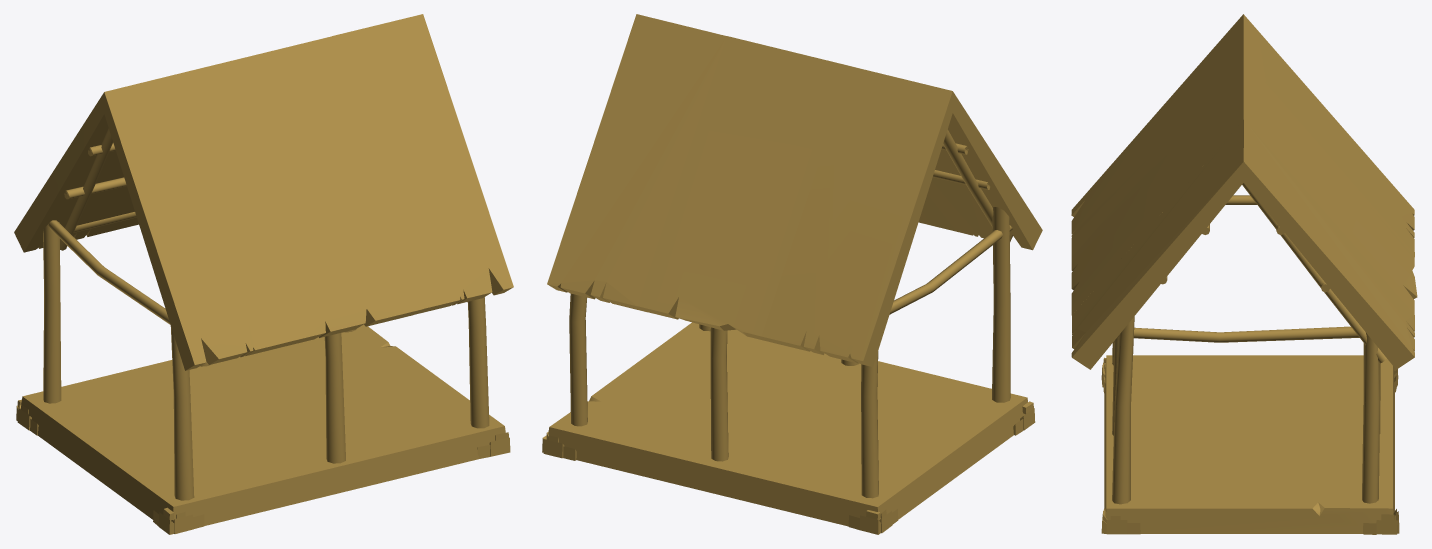
File: SM_restaurant_A01.fbx
The picture shows the model from 3 angles, left to right: view 1: azimuth 30°, elevation 25°; view 2: azimuth 150°, elevation 25°; view 3: azimuth 270°, elevation 25°; orthographic projection. The views are drawn at different scales.
Parts seen in each view (by area): view 1: SM_middle_roof_A003; view 2: SM_middle_roof_A003; view 3: SM_middle_roof_A003.
Part boxes in pixels (<box>): SM_middle_roof_A003: <box>14,14,513,534</box>; SM_middle_roof_A003: <box>542,14,1042,534</box>; SM_middle_roof_A003: <box>1071,14,1417,534</box>.
Bounding box in the file's own units: 450 × 486 × 416.
